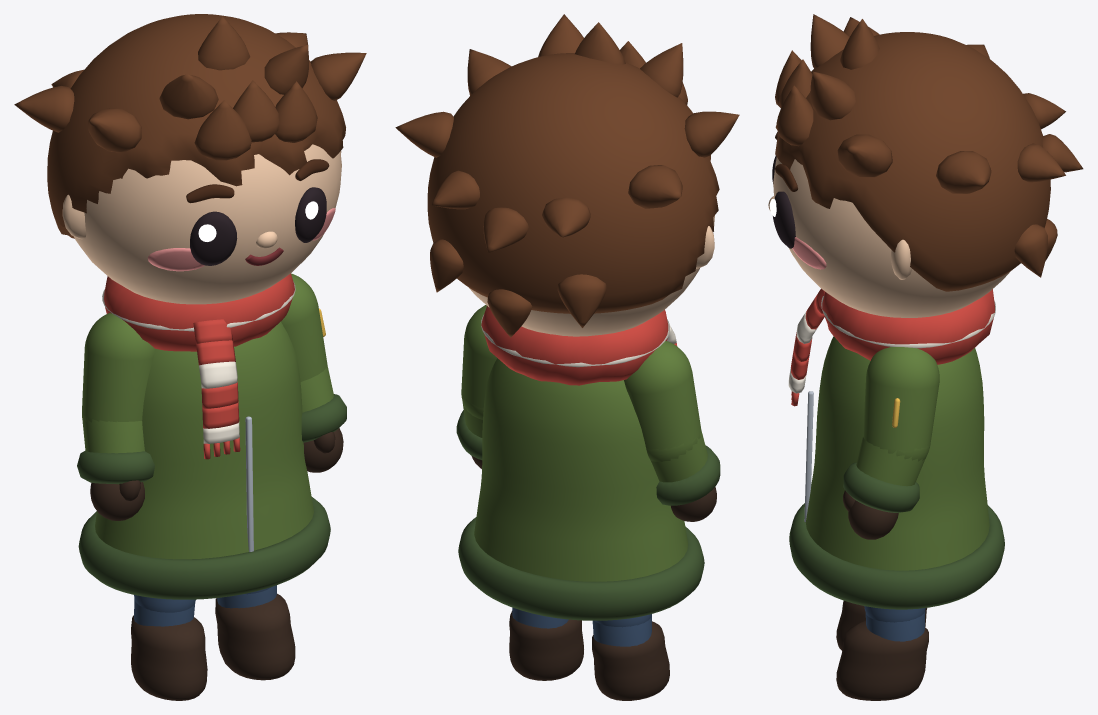
Rendered from npc_young_man.glb.
3 renders of one model, left to right at view 1: azimuth 30°, elevation 25°; view 2: azimuth 150°, elevation 25°; view 3: azimuth 270°, elevation 25°, orthographic. The views are drawn at different scales.
Parts seen in each view (by area): view 1: head_S_body, spine_S_body, chest_S_body, knee_R_S_body, uarm_R, knee_L_S_body, el_R_S_body, head_S_eye_dot, sh_L_S_body, el_L_S_body, hand_R_body, hand_L_body (+3 smaller); view 2: head_S_body, spine_S_body, chest_S_body, uarm_R, knee_R_S_body, knee_L_S_body, el_R_S_body, sh_L_S_body, el_L_S_body, hand_R_body; view 3: head_S_body, spine_S_body, chest_S_body, sh_L_S_body, knee_L_S_body, el_L_S_body, hand_L_body, head_S_eye_dot, knee_R_S_body, thigh_L, head_S_cheek_blush.
Part boxes in pixels (<box>): head_S_body: <box>14,14,366,304</box>; spine_S_body: <box>78,321,330,599</box>; chest_S_body: <box>102,273,295,459</box>; knee_R_S_body: <box>131,598,207,700</box>; uarm_R: <box>82,313,154,422</box>; knee_L_S_body: <box>215,585,295,680</box>; el_R_S_body: <box>77,412,154,484</box>; head_S_eye_dot: <box>190,187,326,265</box>; sh_L_S_body: <box>281,273,327,381</box>; el_L_S_body: <box>300,365,346,442</box>; hand_R_body: <box>90,480,144,520</box>; hand_L_body: <box>303,428,343,472</box>; head_S_body: <box>395,14,739,337</box>; spine_S_body: <box>458,358,704,620</box>; chest_S_body: <box>481,306,676,385</box>; uarm_R: <box>624,341,701,461</box>; knee_R_S_body: <box>592,615,669,700</box>; knee_L_S_body: <box>509,607,583,680</box>; el_R_S_body: <box>646,430,720,505</box>; sh_L_S_body: <box>461,305,497,419</box>; el_L_S_body: <box>456,390,483,459</box>; hand_R_body: <box>671,486,716,521</box>; head_S_body: <box>768,14,1083,317</box>; spine_S_body: <box>789,336,1004,609</box>; chest_S_body: <box>788,288,995,406</box>; sh_L_S_body: <box>863,347,939,461</box>; knee_L_S_body: <box>836,610,928,700</box>; el_L_S_body: <box>843,437,930,512</box>; hand_L_body: <box>843,490,898,539</box>; head_S_eye_dot: <box>769,155,795,248</box>; knee_R_S_body: <box>836,601,927,650</box>; thigh_L: <box>864,606,925,622</box>; head_S_cheek_blush: <box>792,237,826,269</box>.
Size of what is drawn, in the model's own units: 0.6803 by 1.49 by 0.6497.
